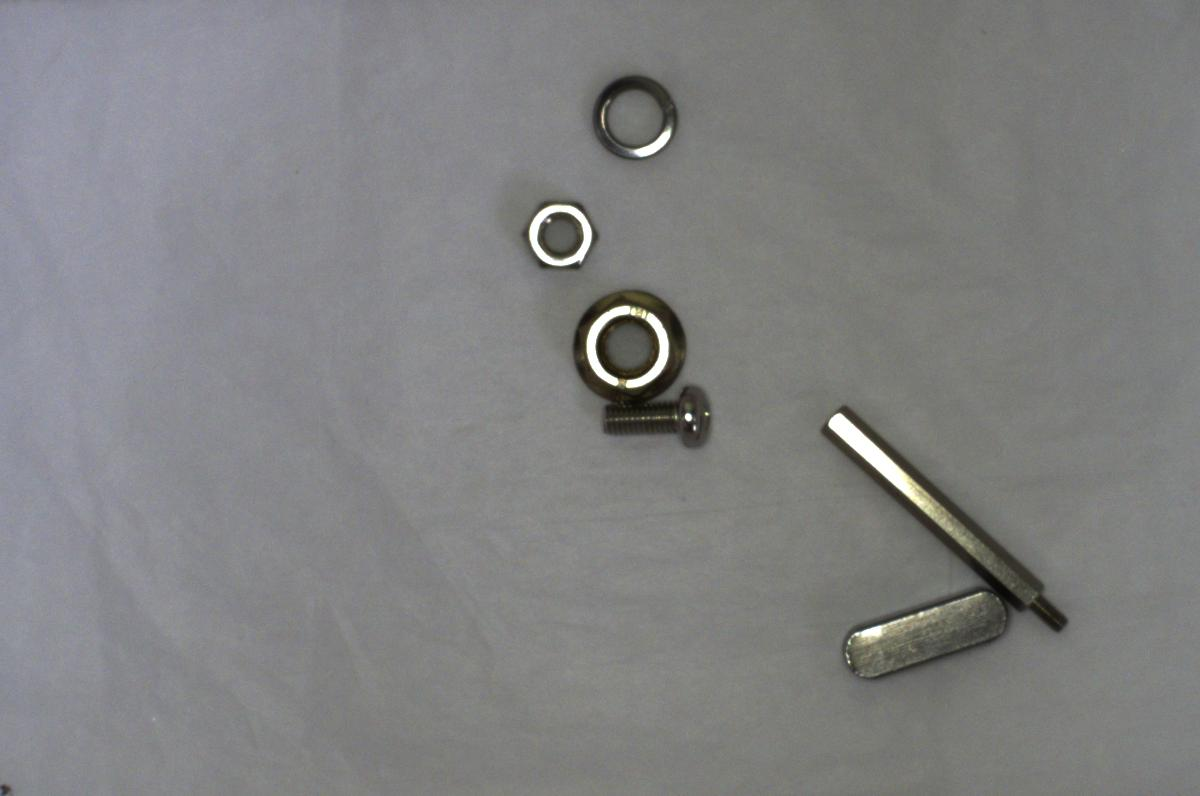Flange nut: (571, 283, 690, 407)
Hexagon nut: (511, 195, 611, 279)
Hexagonal steel column: (817, 395, 1071, 628)
Keybar: (833, 590, 1017, 690)
Round head screw: (586, 378, 721, 450)
Spring washer: (577, 67, 694, 169)
